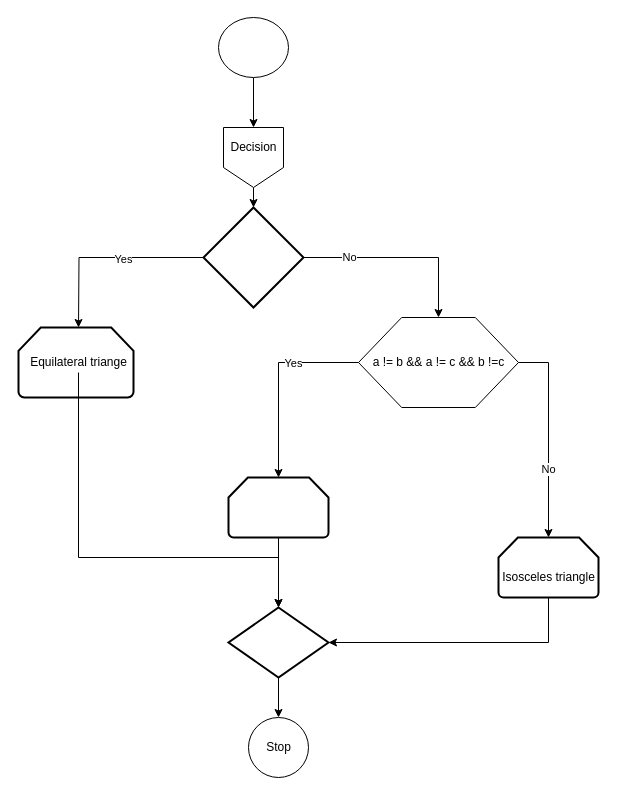
The diagram is 620 pixels wide and 795 high, and some of its shapes have lost their labels. Each missing label, with the centre of its shape:
a==b && b==c: point 253,257
Scalene triangle: point 278,507
Start: point 253,47
